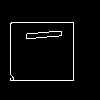I: (25, 25, 72, 43)
